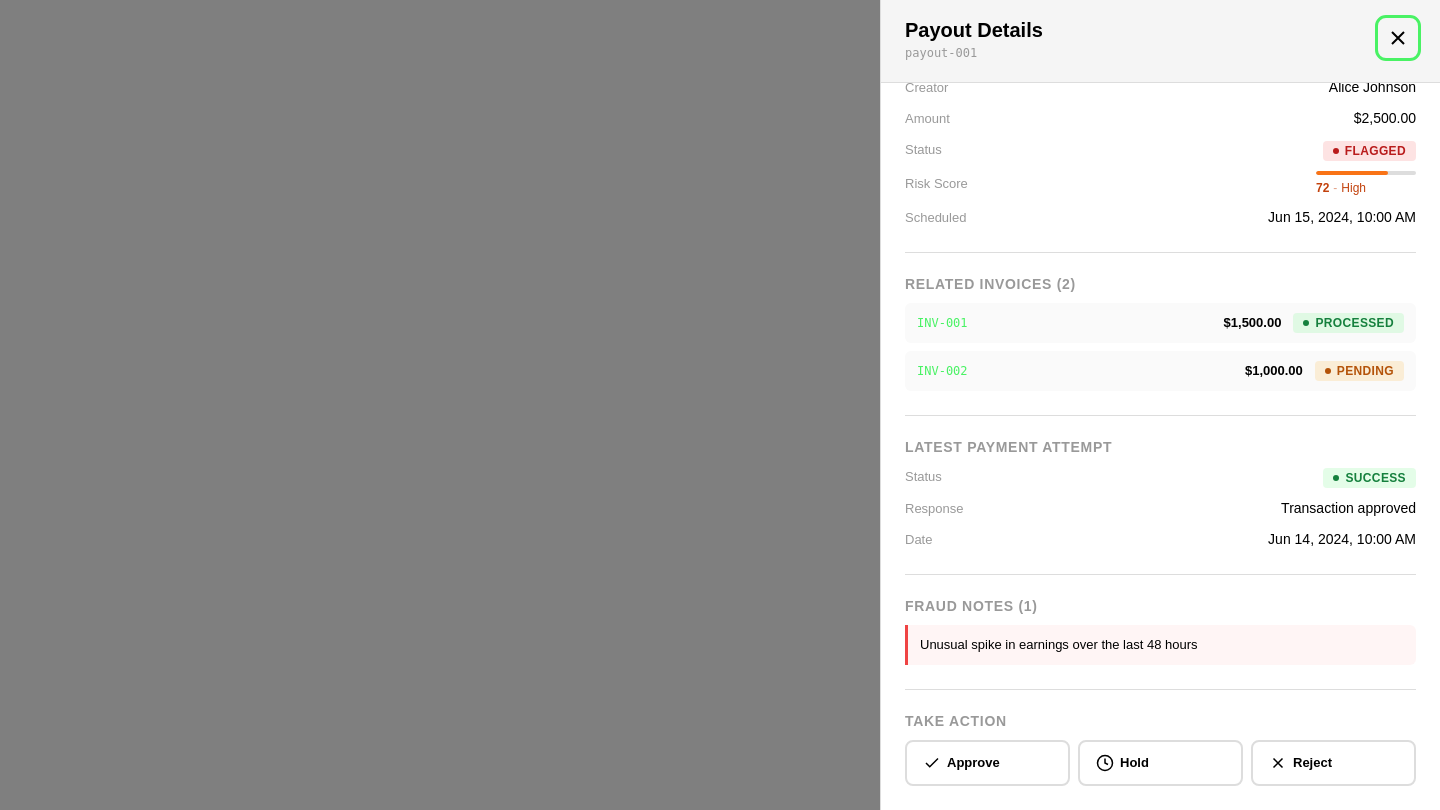
Scenario: PayoutDetailPanel › decision buttons › enables submit button when reject reason is provided
(page scrolled)
Click the button "Reject".
click(1334, 762)  # box [1251,740,1416,786]
(page scrolled)
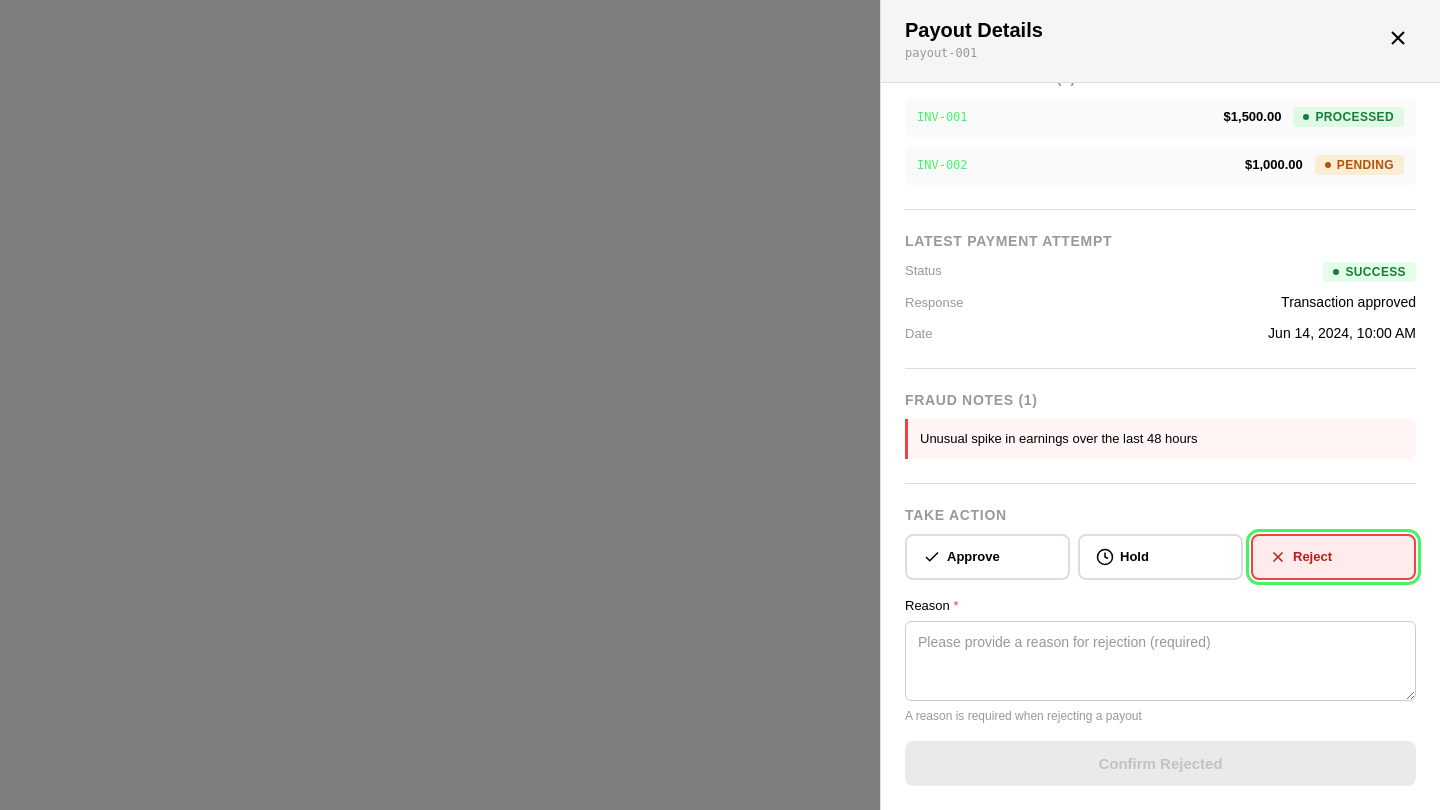
Type "Fraud detected" into the text box.
click(1160, 661); type("Fraud detected")  # box [905,621,1416,701]
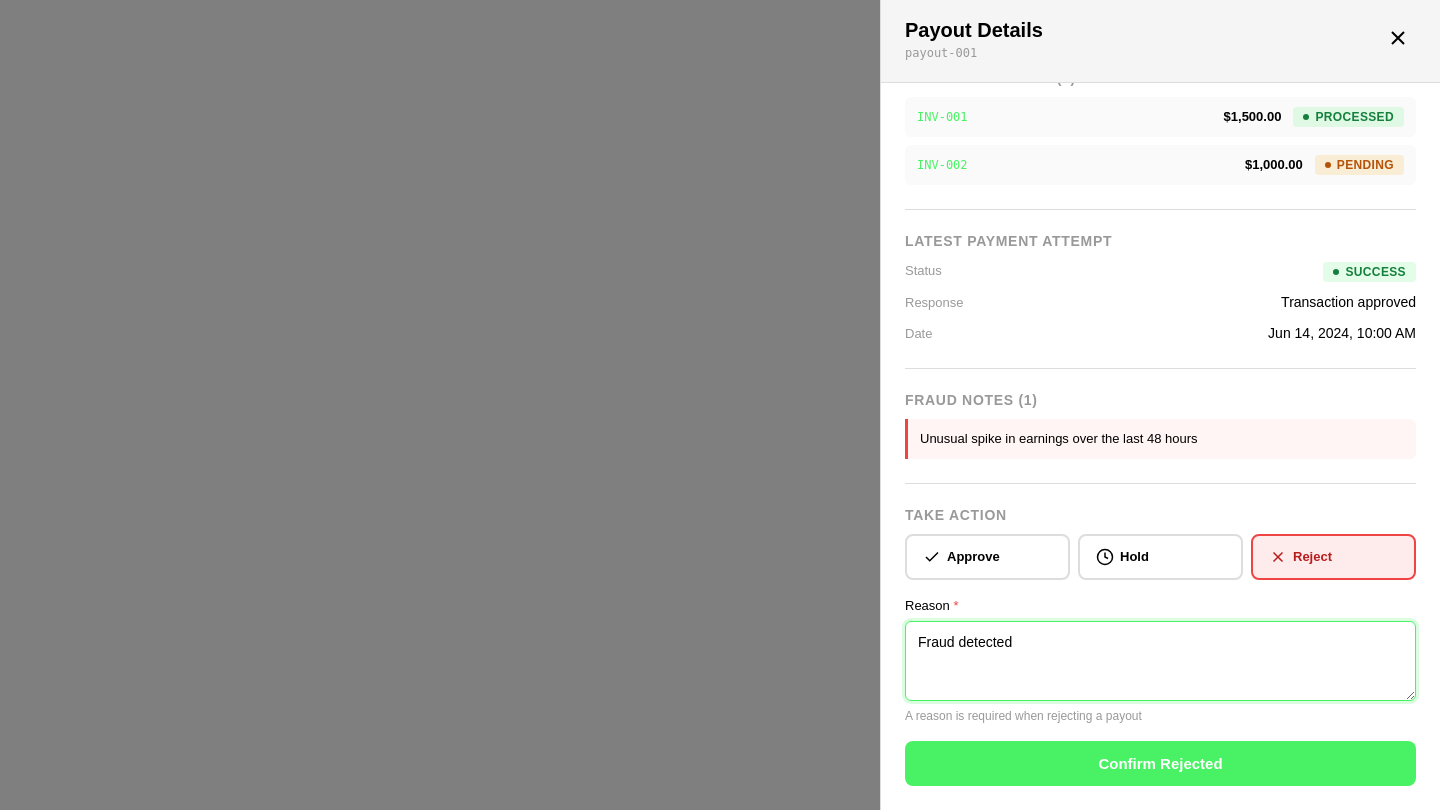
Result: the button "Confirm Rejected" is enabled at [905,741,1416,786]
